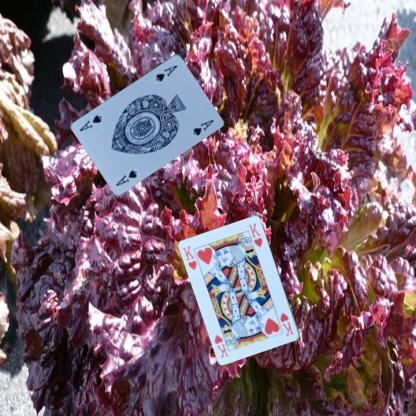As: (153, 62, 179, 82), (113, 167, 138, 187)
Kh: (180, 243, 198, 272), (278, 310, 295, 338)
